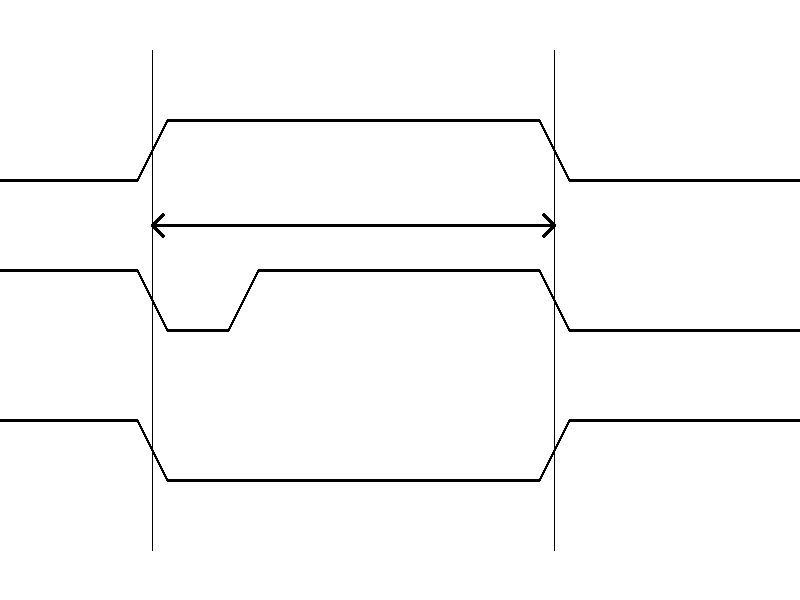double_arrow: (152, 210, 554, 240)
